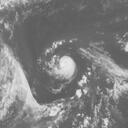cyclone: (57, 56, 76, 79)
